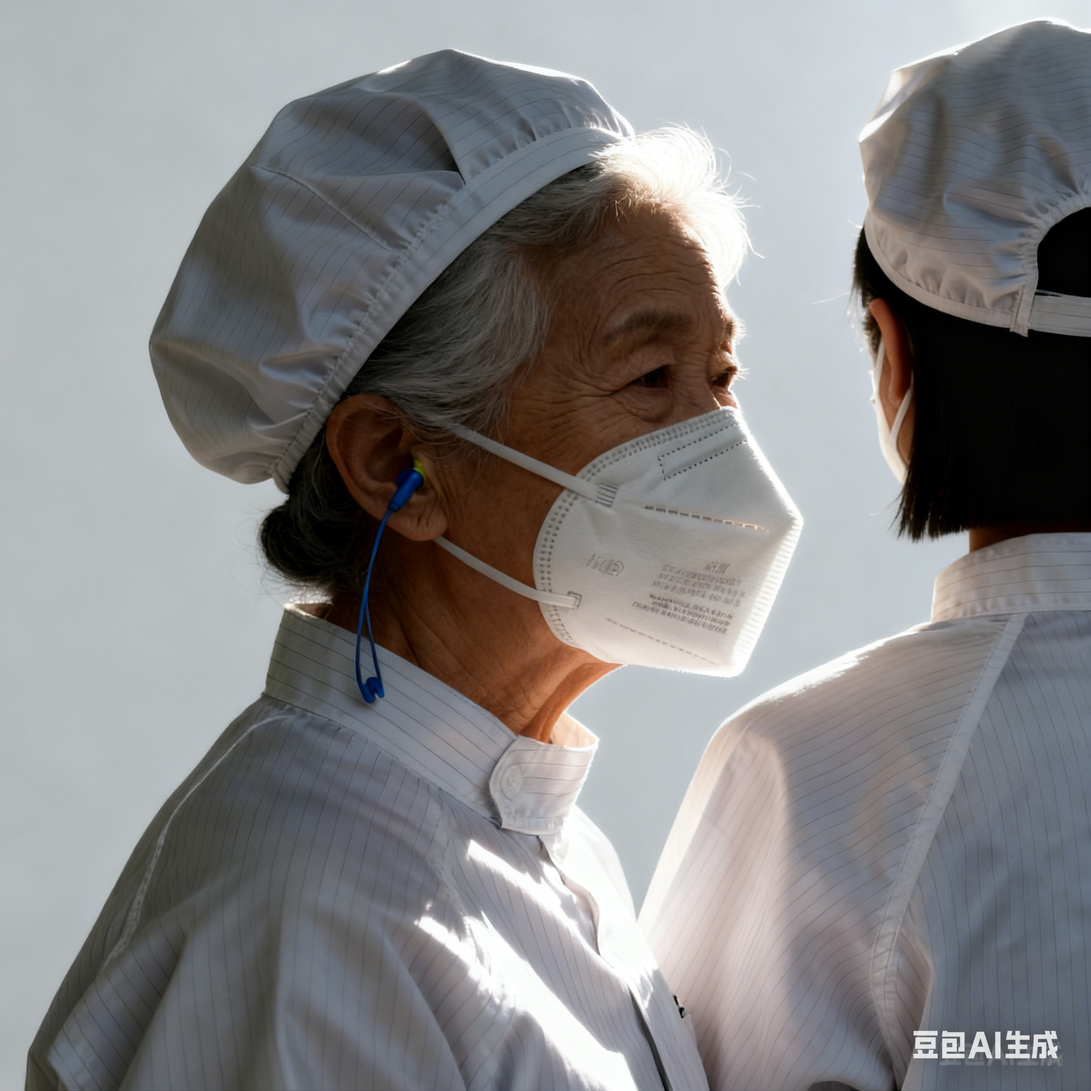MASK: (535, 400, 795, 680)
